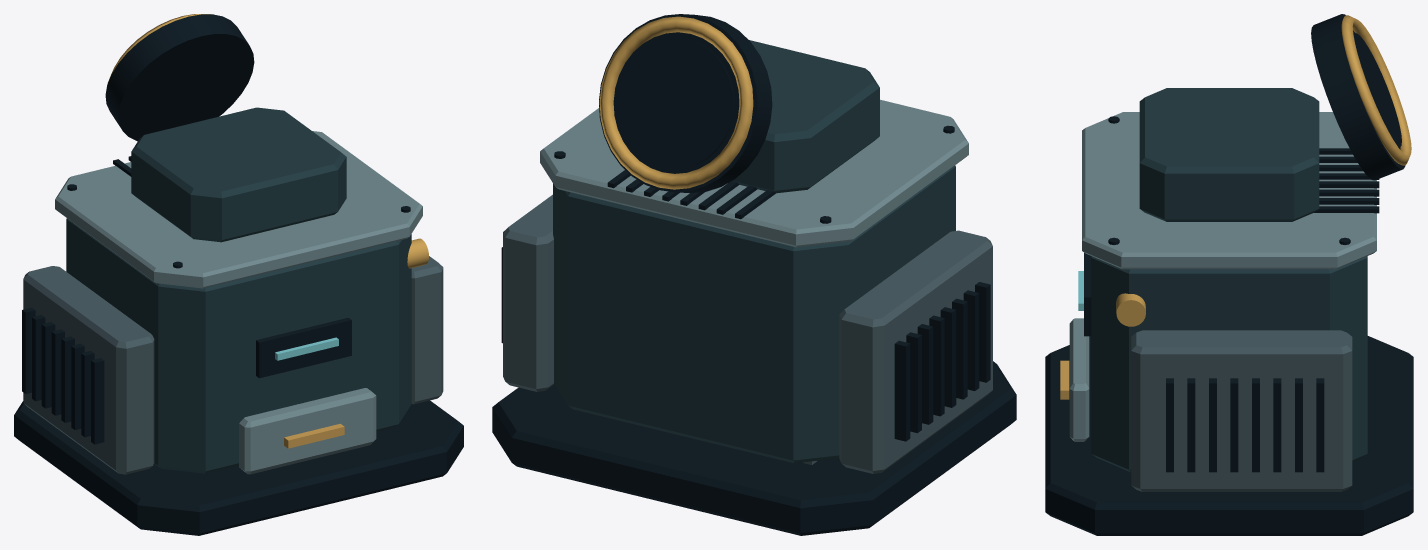
Rendered from furnace_d0_lod0.glb.
3 views of the same model, side by side, from view 1: azimuth 30°, elevation 25°; view 2: azimuth 150°, elevation 25°; view 3: azimuth 270°, elevation 25° (orthographic). The views are drawn at different scales.
Parts seen in each view (by area): view 1: FURNACE_BODY, CRUCIBLE_DOOR; view 2: FURNACE_BODY; view 3: FURNACE_BODY, CRUCIBLE_DOOR.
Part boxes in pixels (x1=…): FURNACE_BODY: x1=14, y1=14, x2=463, y2=535; CRUCIBLE_DOOR: x1=239, y1=388, x2=376, y2=474; FURNACE_BODY: x1=492, y1=14, x2=1016, y2=535; FURNACE_BODY: x1=1045, y1=14, x2=1413, y2=535; CRUCIBLE_DOOR: x1=1060, y1=318, x2=1089, y2=441.
Bounding box in the file's own units: 3.56 × 3.85 × 3.
